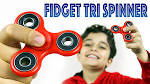fidget_kid_spinner_toys: (15, 9, 75, 66), (109, 14, 137, 44)
